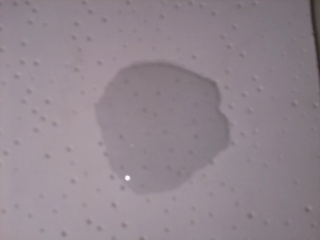Water_detected: (107, 80, 209, 183)
